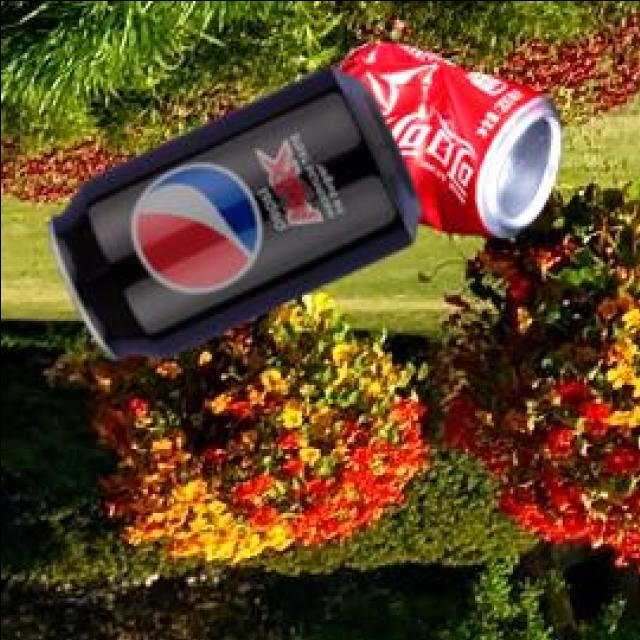logam: (51, 70, 423, 361), (340, 46, 565, 241)
